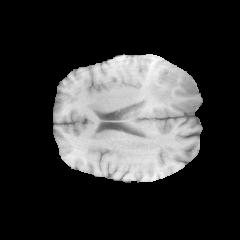glioma: (126, 62, 197, 115)
